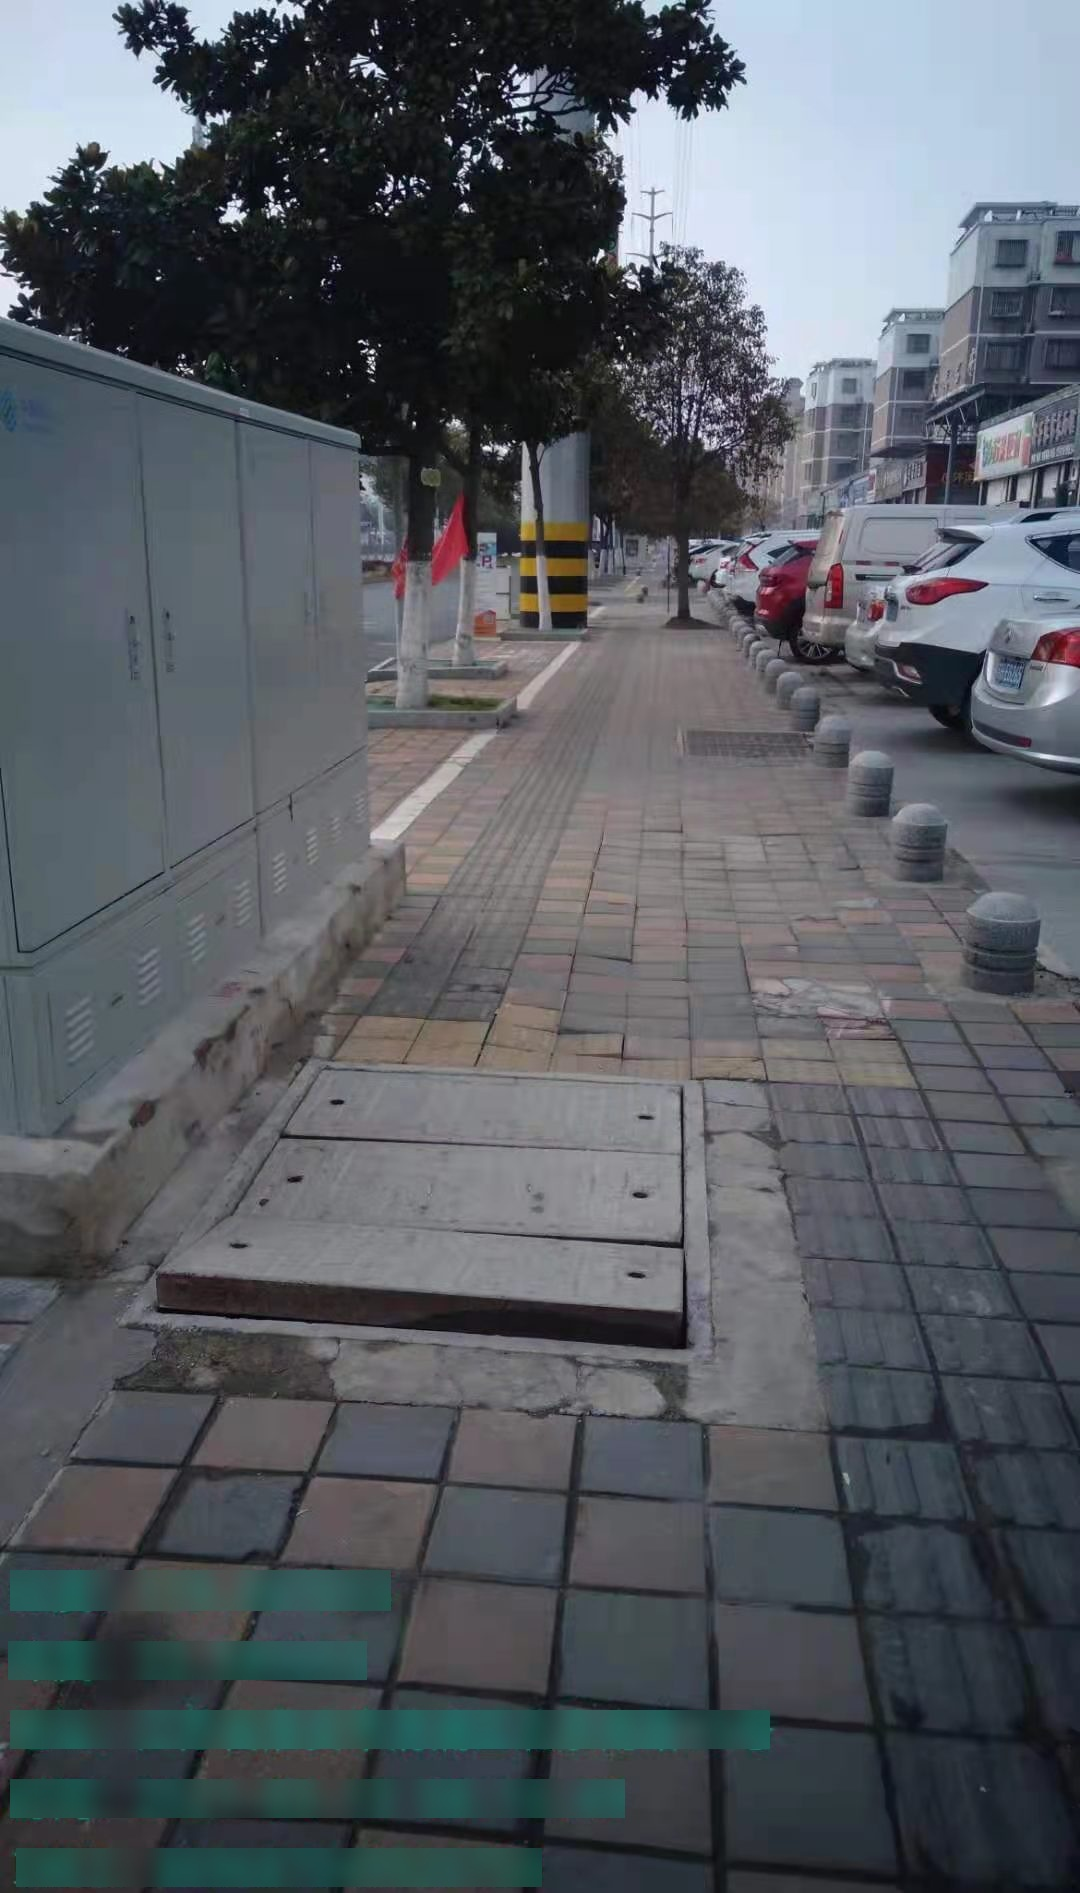uncovered: (120, 1054, 723, 1382)
